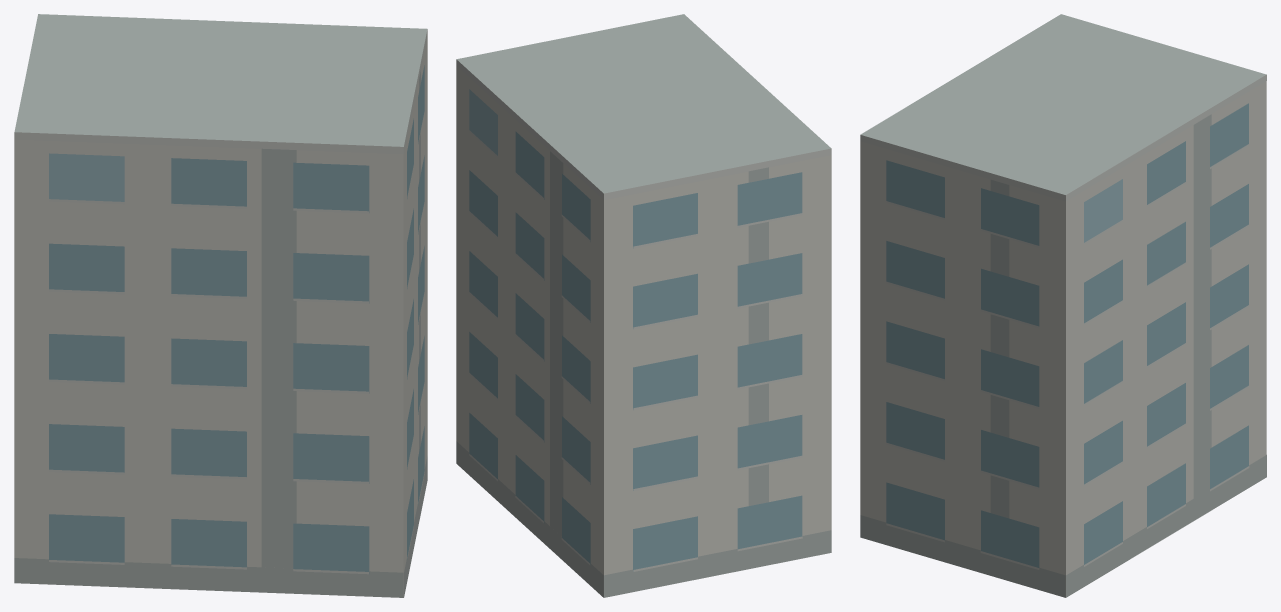
The model's file is survey-upis-32510454.glb.
3 renders of one model, left to right at view 1: azimuth 30°, elevation 25°; view 2: azimuth 150°, elevation 25°; view 3: azimuth 270°, elevation 25°, orthographic. The views are drawn at different scales.
Visible parts, largest first — view 1: survey-upis-32510454.tmp; view 2: survey-upis-32510454.tmp; view 3: survey-upis-32510454.tmp.
Part boxes in pixels (x1,y1,x2,y2): survey-upis-32510454.tmp: (14,14,427,597); survey-upis-32510454.tmp: (456,14,831,597); survey-upis-32510454.tmp: (860,14,1266,597).
Bounding box in the file's own units: 14.67 × 15.2 × 13.91.
